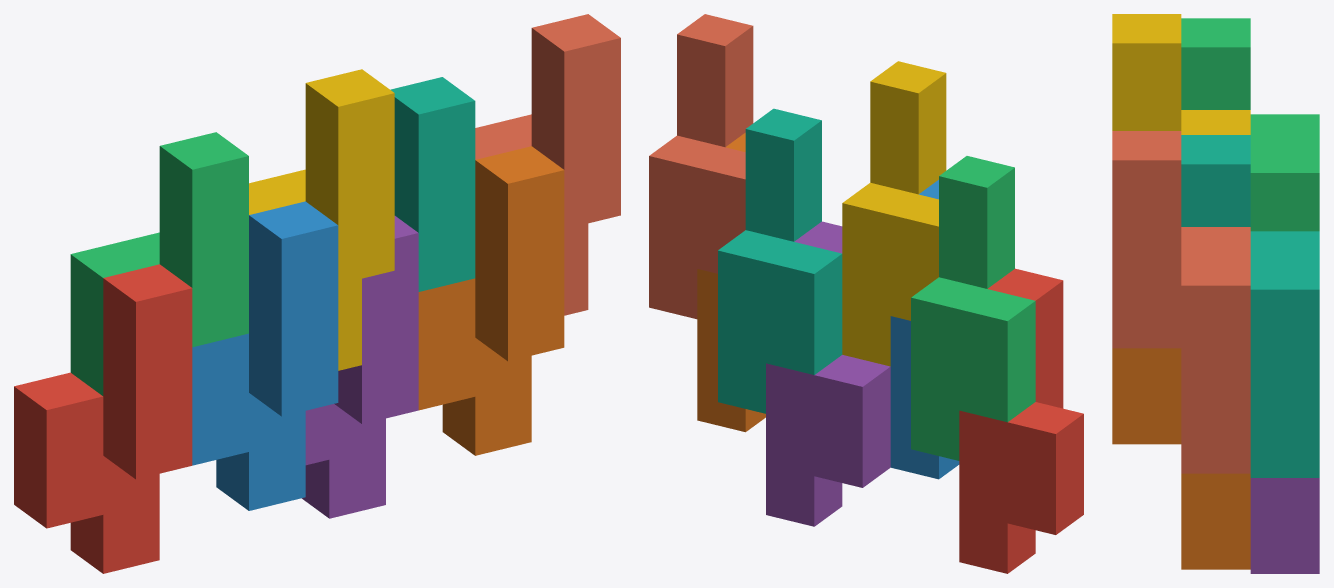
The model's file is tiling.obj.
3 renders of one model, left to right at view 1: azimuth 30°, elevation 25°; view 2: azimuth 150°, elevation 25°; view 3: azimuth 270°, elevation 25°, orthographic. The views are drawn at different scales.
Visible parts, largest first — view 1: copy_1_domain_1, copy_1_domain_2, copy_1_domain_6, copy_1_domain_3, copy_1_domain_8, copy_1_domain_4, copy_1_domain_5, copy_1_domain_7; view 2: copy_1_domain_7, copy_1_domain_3, copy_1_domain_8, copy_1_domain_4, copy_1_domain_1, copy_1_domain_5, copy_1_domain_2, copy_1_domain_6; view 3: copy_1_domain_8, copy_1_domain_7, copy_1_domain_3, copy_1_domain_6, copy_1_domain_4, copy_1_domain_5.
Part boxes in pixels (bbox=[...]): copy_1_domain_1: bbox=[14, 264, 192, 573]; copy_1_domain_2: bbox=[192, 201, 338, 510]; copy_1_domain_6: bbox=[418, 146, 564, 455]; copy_1_domain_3: bbox=[70, 132, 248, 395]; copy_1_domain_8: bbox=[475, 14, 620, 315]; copy_1_domain_4: bbox=[249, 69, 394, 370]; copy_1_domain_5: bbox=[302, 216, 418, 518]; copy_1_domain_7: bbox=[390, 77, 475, 291]; copy_1_domain_7: bbox=[718, 108, 842, 413]; copy_1_domain_3: bbox=[911, 156, 1035, 460]; copy_1_domain_8: bbox=[649, 14, 753, 319]; copy_1_domain_4: bbox=[842, 61, 946, 366]; copy_1_domain_1: bbox=[959, 268, 1083, 573]; copy_1_domain_5: bbox=[766, 221, 890, 526]; copy_1_domain_2: bbox=[890, 180, 959, 479]; copy_1_domain_6: bbox=[697, 132, 765, 432]; copy_1_domain_8: bbox=[1112, 131, 1250, 473]; copy_1_domain_7: bbox=[1181, 135, 1319, 477]; copy_1_domain_3: bbox=[1181, 18, 1319, 231]; copy_1_domain_6: bbox=[1112, 348, 1250, 569]; copy_1_domain_4: bbox=[1112, 14, 1250, 134]; copy_1_domain_5: bbox=[1250, 478, 1319, 573].
Size of the model in its own units: 9 by 8 by 3.
